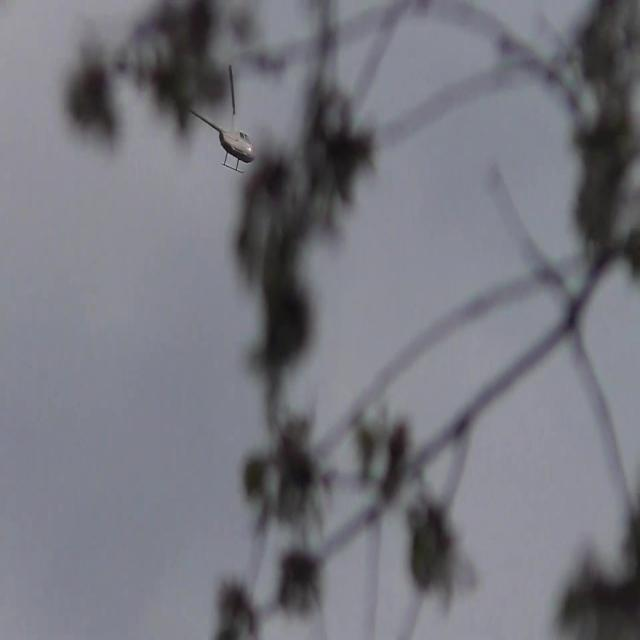CIV_HELO: (182, 107, 256, 175)
